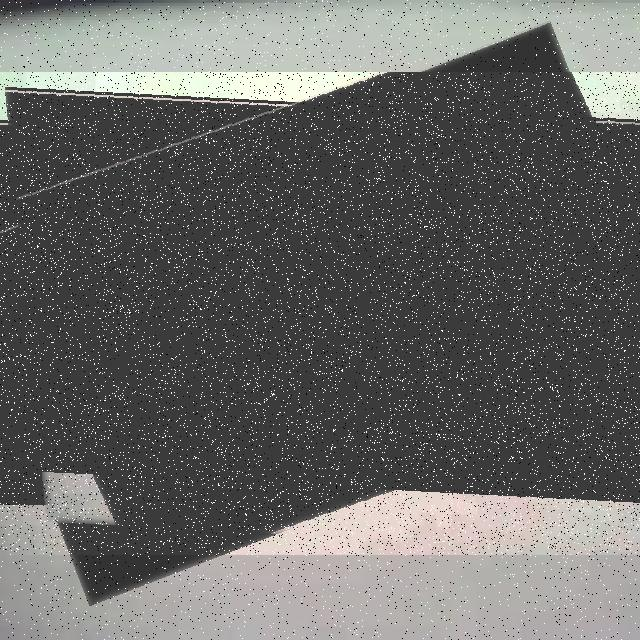dua ribu rupiah: (0, 72, 640, 555)
